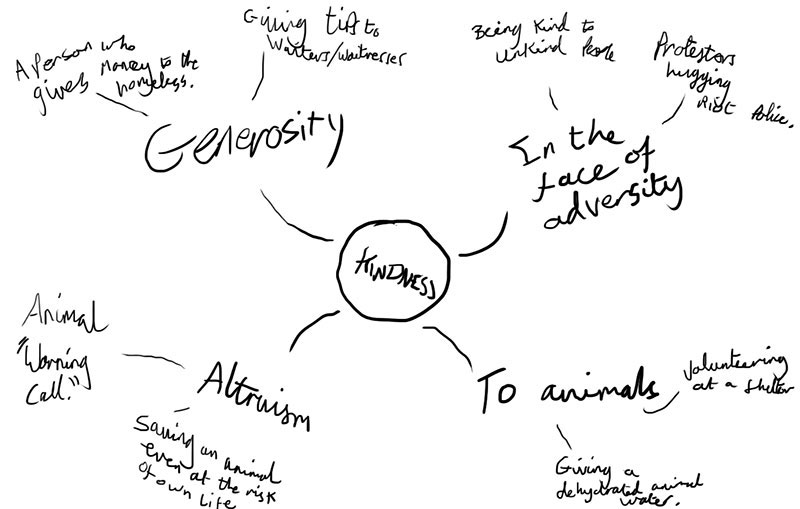circle: (335, 218, 453, 324)
line: (258, 187, 339, 243), (420, 323, 475, 375), (459, 208, 511, 260), (288, 309, 343, 352), (97, 90, 150, 120), (122, 350, 186, 372), (642, 388, 681, 415), (660, 93, 687, 126), (251, 50, 268, 102), (553, 423, 575, 454), (546, 86, 564, 113)
